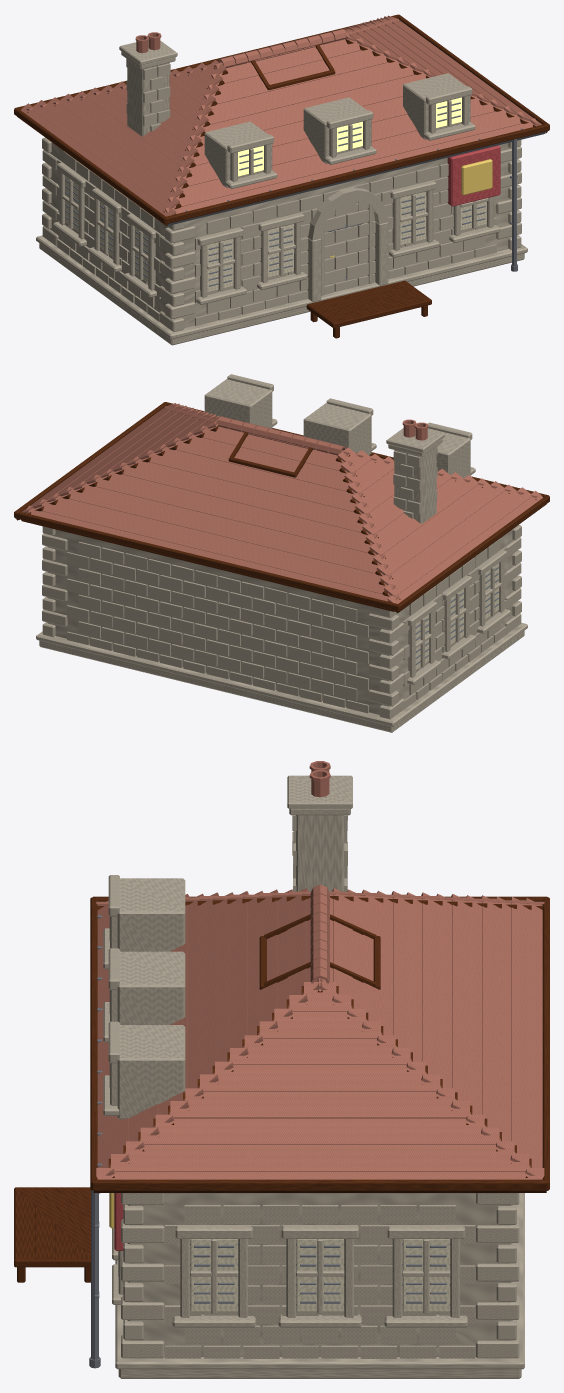
The model's file is fantasy-mmo-city-and-townsfolk-city-barracks-b7b25a3b__32744.glb.
3 renders of one model, top to bottom at view 1: azimuth 30°, elevation 25°; view 2: azimuth 150°, elevation 25°; view 3: azimuth 270°, elevation 25°, orthographic. The views are drawn at different scales.
Visible parts, largest first — view 1: city-barracks; view 2: city-barracks; view 3: city-barracks.
Part boxes in pixels (x1,y1,x2,y2): city-barracks: (14, 14, 549, 345); city-barracks: (14, 374, 549, 732); city-barracks: (14, 761, 549, 1378).
Bounding box in the file's own units: 14.03 × 8.7 × 11.11.
9 materials, 6 textured.
